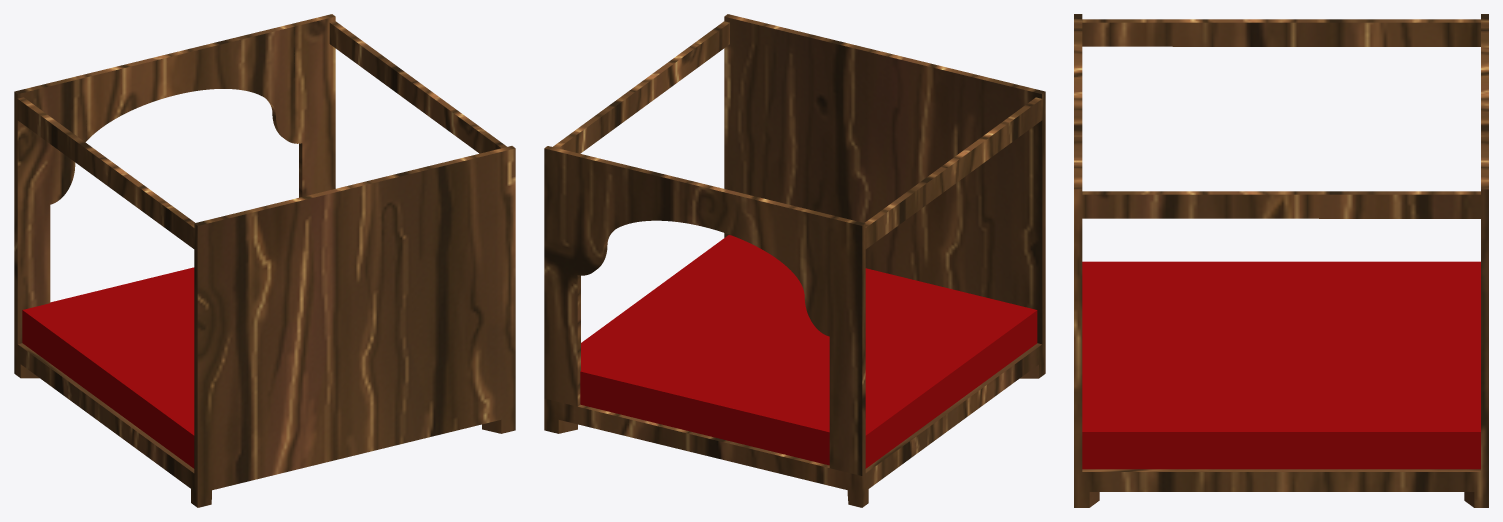
Rendered from Cama.fbx.
3 views of the same model, side by side, from view 1: azimuth 30°, elevation 25°; view 2: azimuth 150°, elevation 25°; view 3: azimuth 270°, elevation 25° (orthographic). The views are drawn at different scales.
Visible parts, largest first — view 1: cama; view 2: cama; view 3: cama.
Part boxes in pixels (x1,y1,x2,y2): cama: (14,14,515,507); cama: (544,14,1045,507); cama: (1074,14,1488,507).
Bounding box in the file's own units: 970 × 822 × 970.
Materials: 2 (1 with a texture image).
